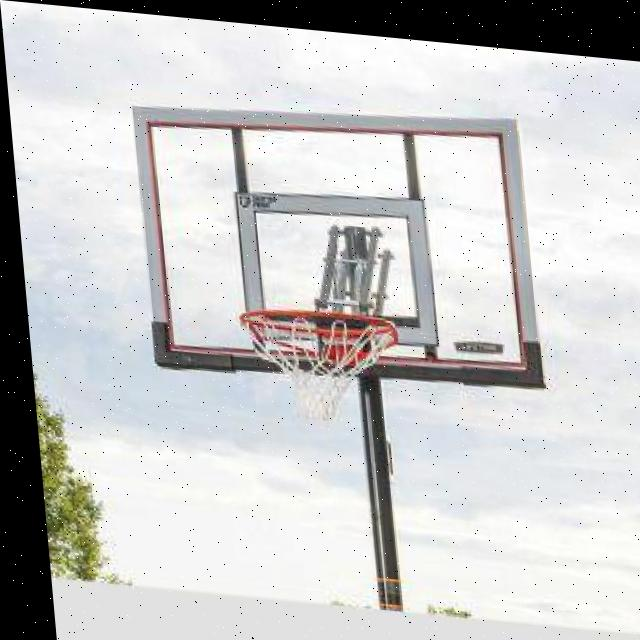hoop: (238, 302, 407, 427)
